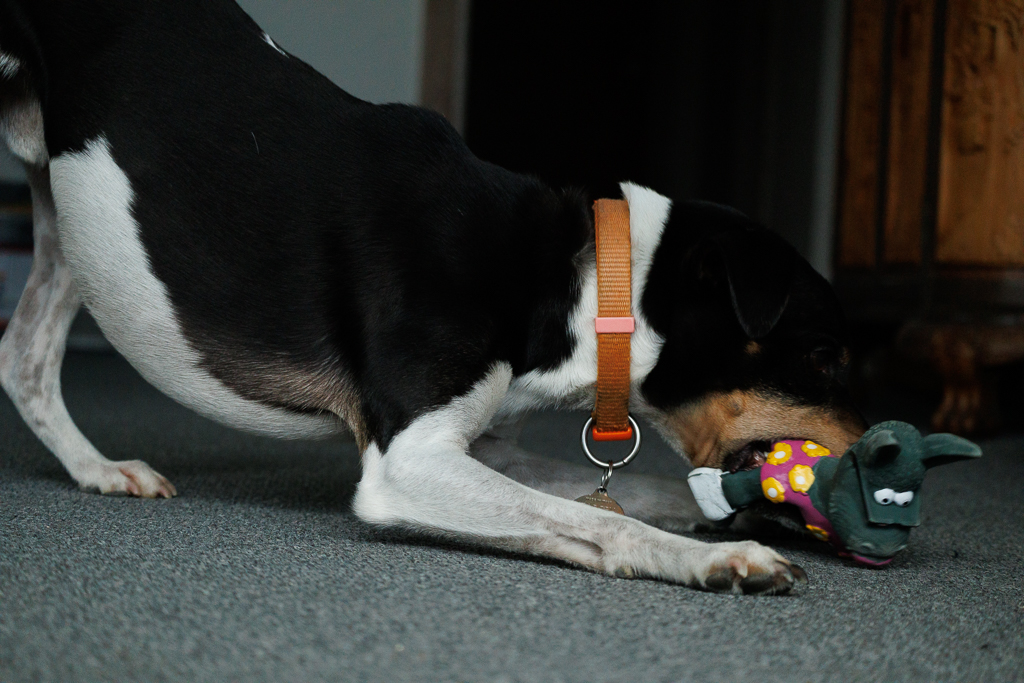Dog: (0, 0, 897, 605)
Humanoid: (671, 397, 998, 581)
